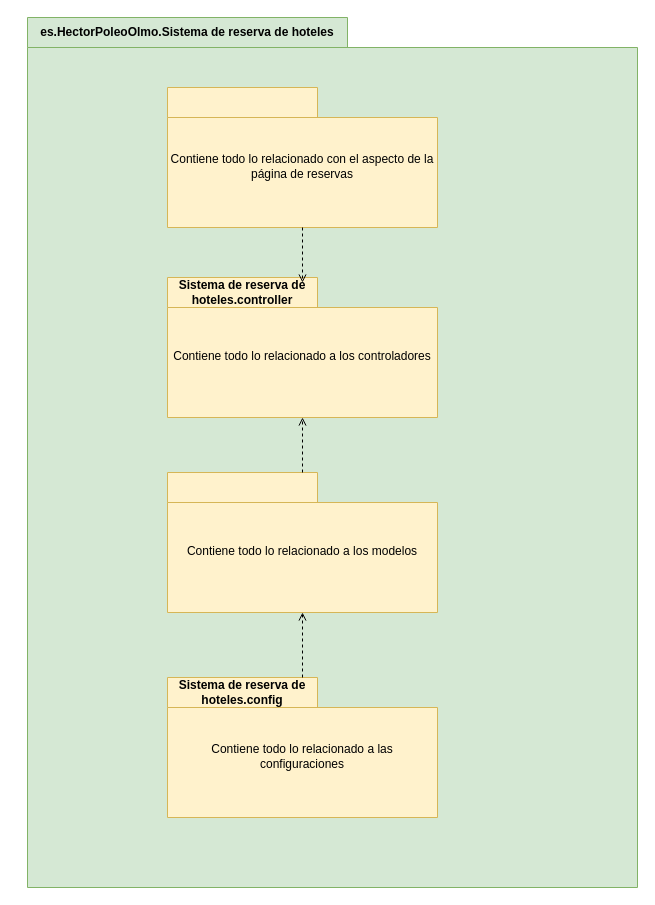
The diagram is 655 pixels wide and 905 high, and some of its shapes have lost their labels. The centre of each missing label's shape, as x and y in pixels:
"Sistema de reserva de hoteles.model" belongs at (x=302, y=542).
"Sistema de reserva de hoteles.view" belongs at (x=302, y=157).
